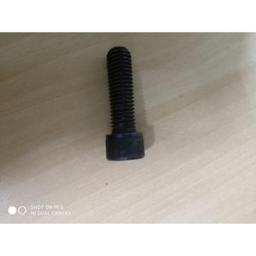screwtype1black: (100, 44, 149, 163)
